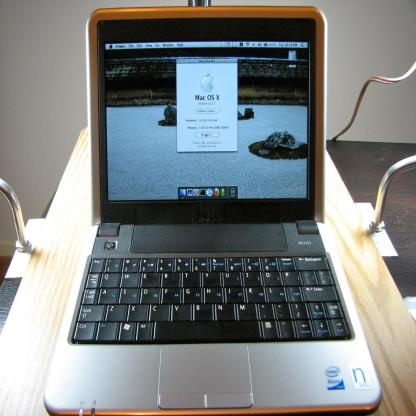board: (43, 2, 381, 416)
